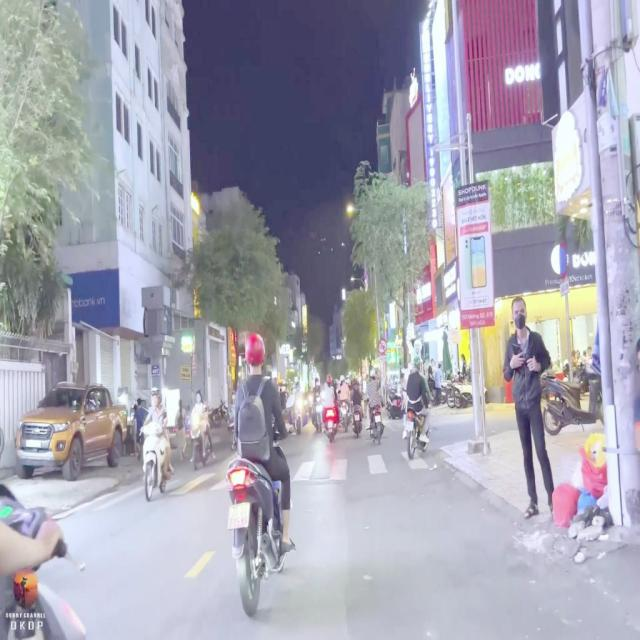cam_o_to: (378, 338, 387, 354)
